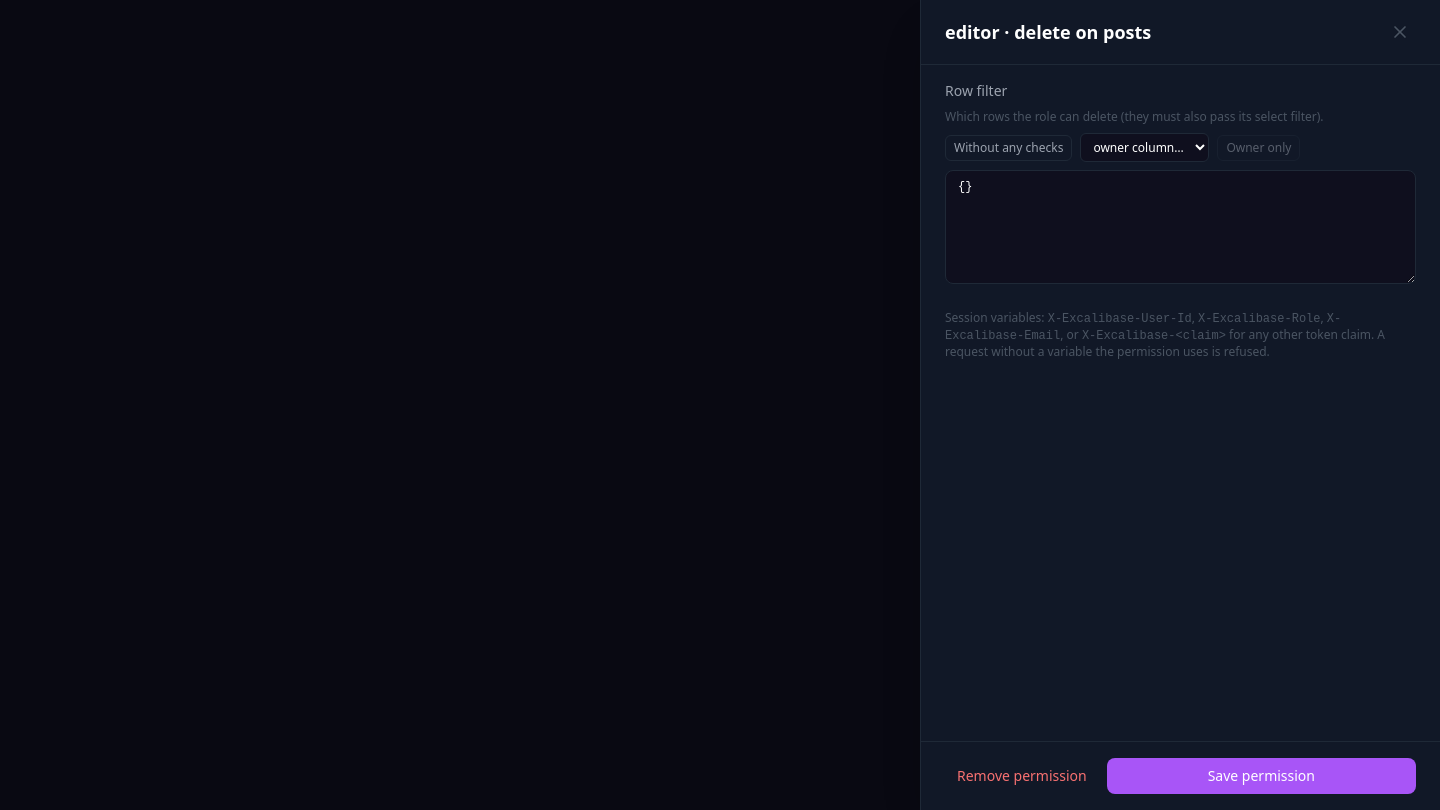
Test: PermissionEditor › a refused remove shows the server's reason
Click the button "Remove permission".
click(1022, 776)  # box x1=945 y1=758 x2=1099 y2=794
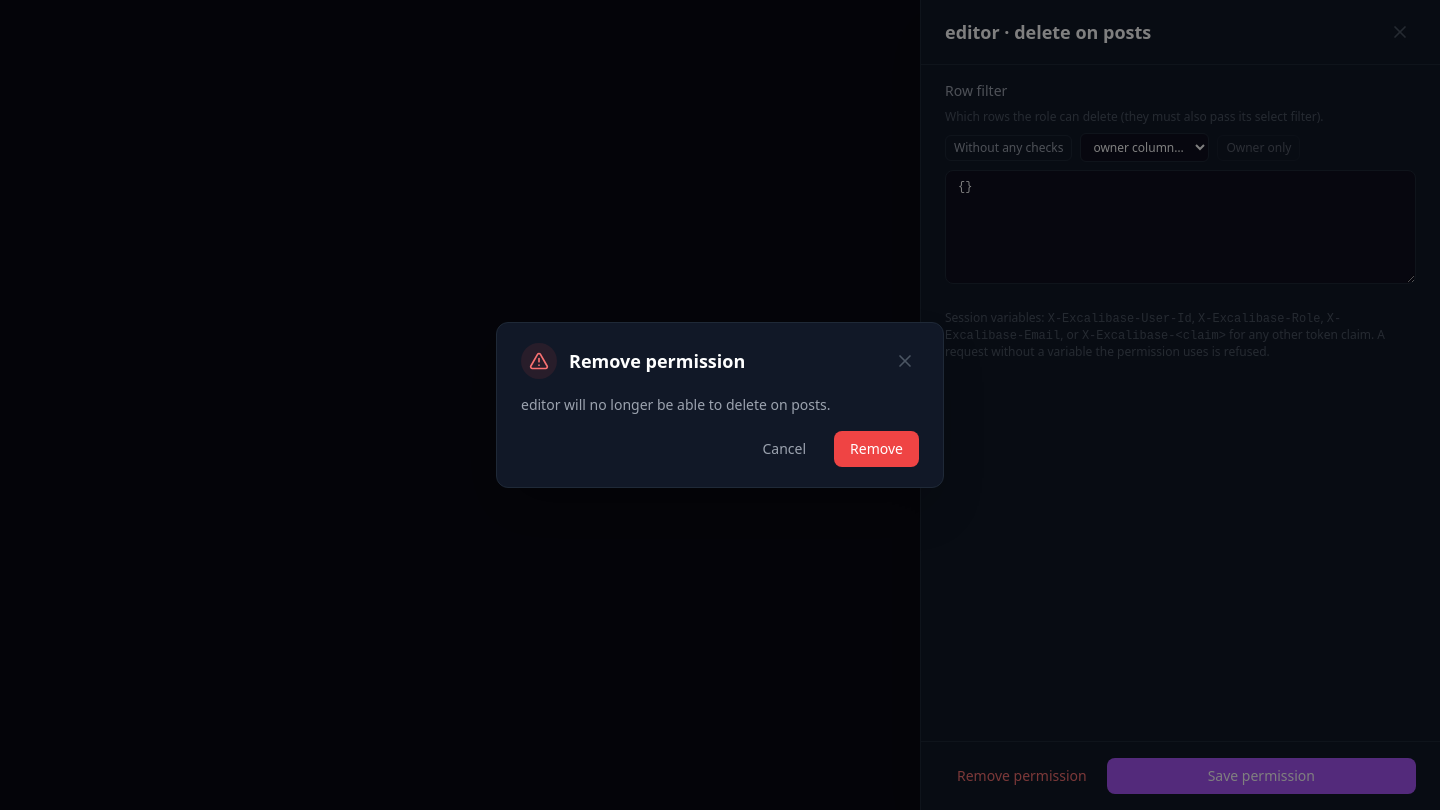
Click the button with test id "modal-confirm".
click(877, 449)  # box x1=834 y1=431 x2=919 y2=467
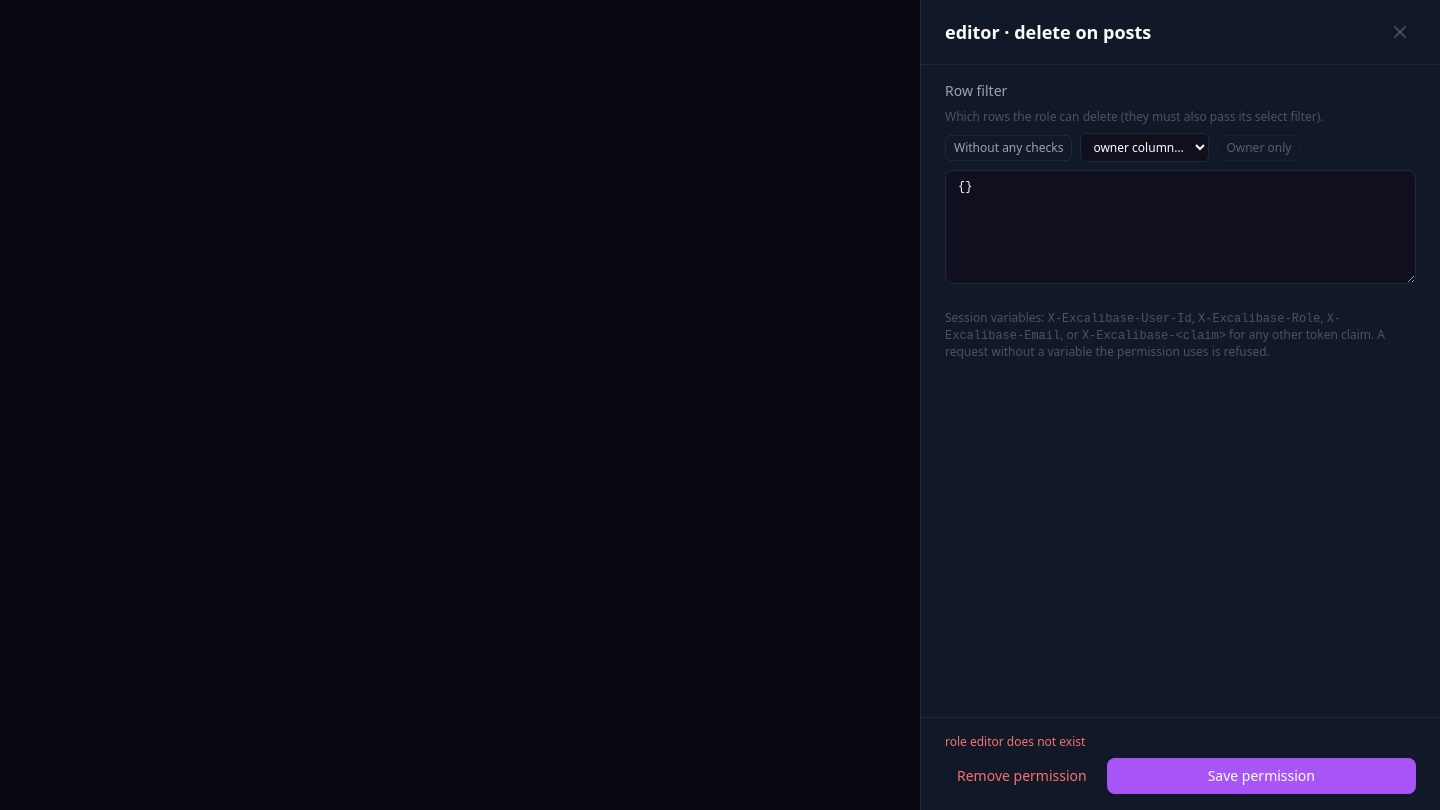
Now the message with test id "permission-save-error" reads "role editor does not exist", box x1=945 y1=733 x2=1085 y2=750
